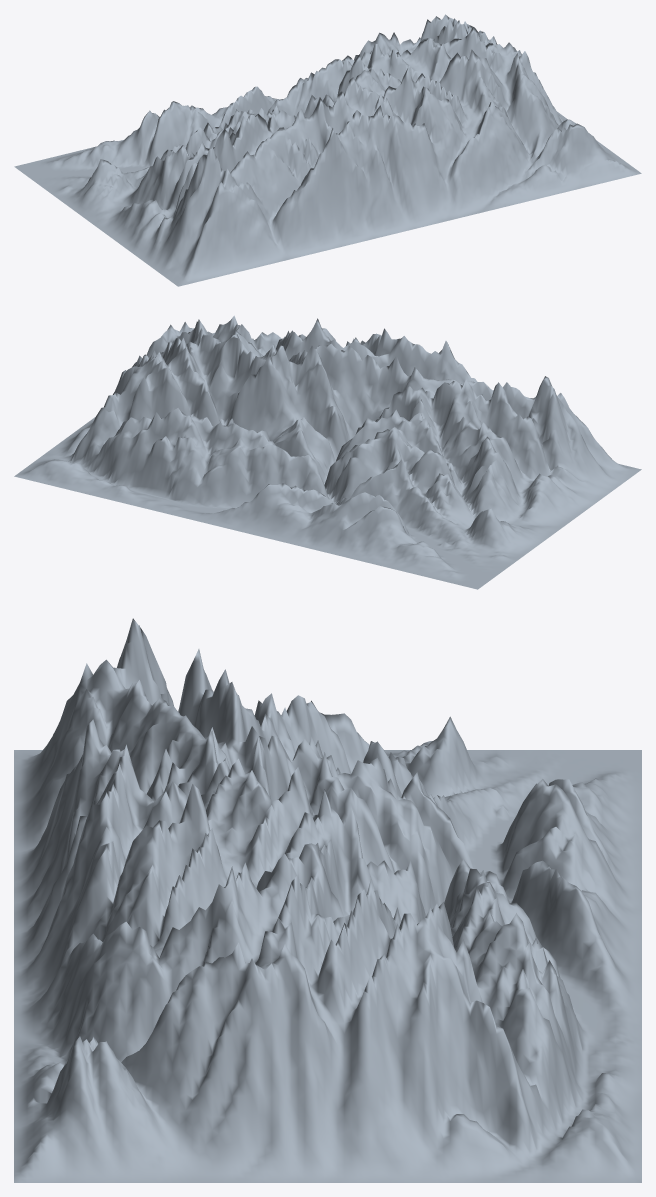
File: eiger-ridge-lod.glb
3 views of the same model, one above another, from view 1: azimuth 30°, elevation 25°; view 2: azimuth 150°, elevation 25°; view 3: azimuth 270°, elevation 25° (orthographic). The views are drawn at different scales.
Parts seen in each view (by area): view 1: eiger-ridge-lod; view 2: eiger-ridge-lod; view 3: eiger-ridge-lod.
Part boxes in pixels (x1,y1,x2,y2): eiger-ridge-lod: (14,14,641,286); eiger-ridge-lod: (14,315,641,589); eiger-ridge-lod: (14,618,641,1182).
Size of the model in its own units: 124 by 30.1 by 76.
